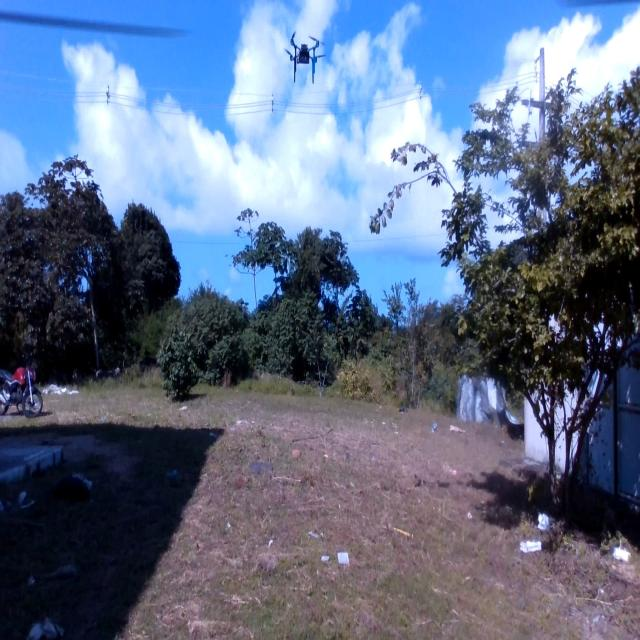-uav-: (278, 24, 334, 93)
